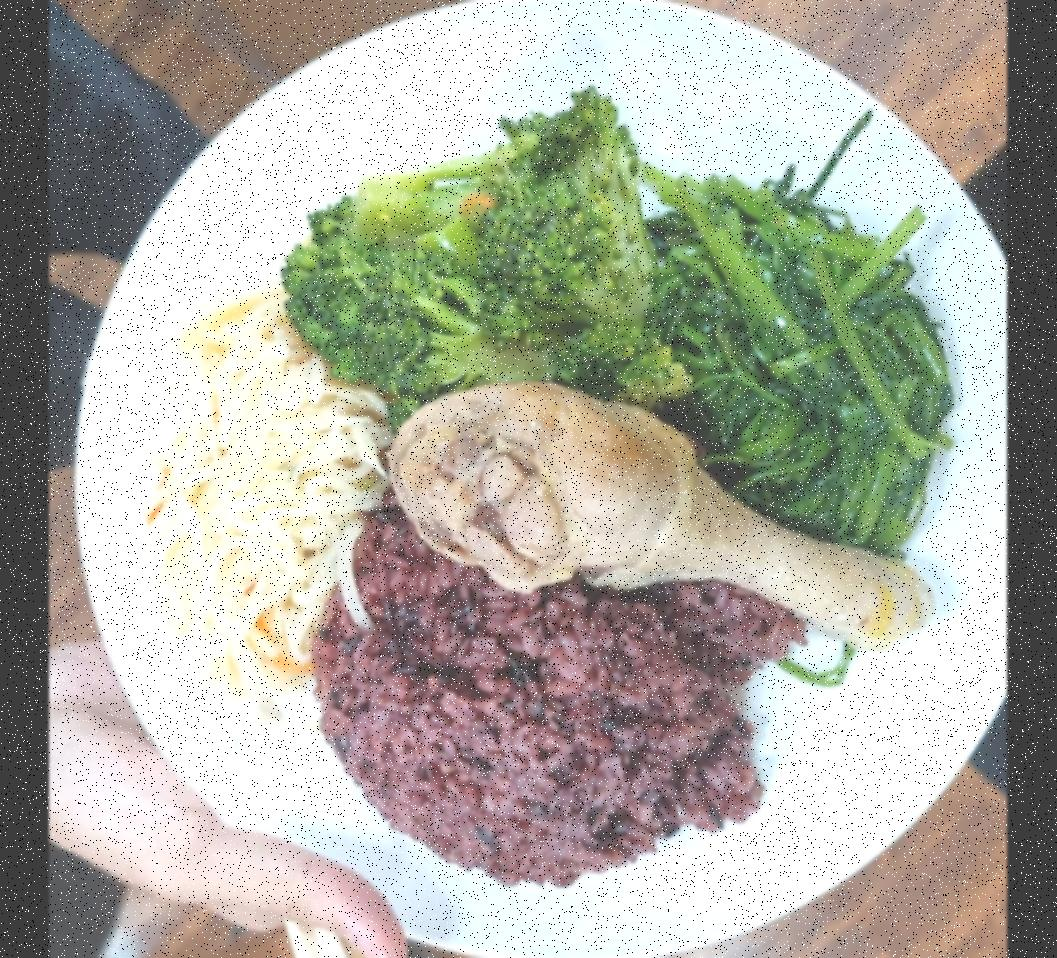plate: (69, 0, 1007, 958)
purple rice: (326, 508, 784, 876)
side dish: (276, 87, 692, 414), (640, 170, 960, 560), (120, 297, 372, 710)
small herbal chicken leg: (386, 371, 937, 678)
